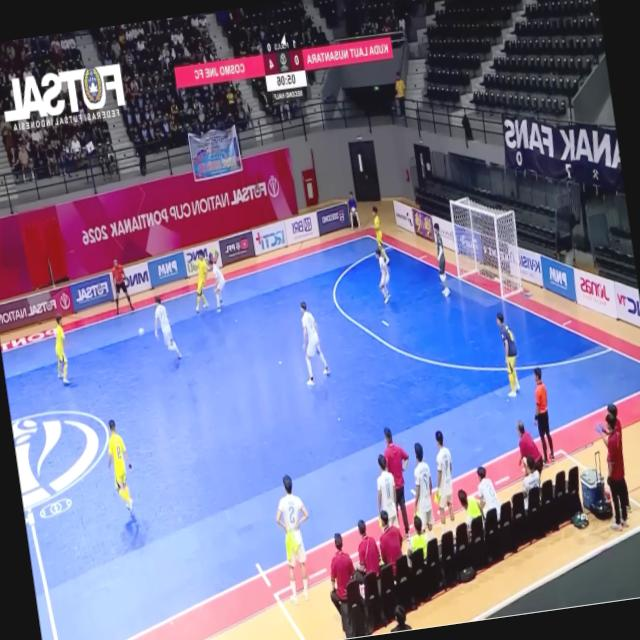official: (600, 414, 628, 530), (383, 428, 409, 539), (329, 534, 354, 629), (533, 367, 554, 464), (354, 520, 379, 583), (516, 421, 542, 475), (111, 259, 133, 314), (395, 72, 405, 117), (347, 192, 358, 229)
players: (276, 475, 308, 604), (600, 414, 628, 530), (383, 428, 409, 539), (329, 534, 354, 629), (300, 302, 328, 386), (107, 420, 132, 510), (496, 313, 519, 398), (434, 431, 453, 531), (413, 443, 432, 532), (154, 296, 181, 358), (354, 520, 379, 583), (376, 455, 397, 527), (516, 421, 542, 475), (111, 259, 133, 314), (476, 467, 500, 516), (207, 254, 224, 312), (54, 316, 68, 384), (371, 206, 387, 262), (194, 251, 207, 312), (375, 248, 389, 304), (395, 72, 405, 117), (347, 192, 358, 229)
referee: (533, 368, 554, 464), (111, 259, 133, 314)
